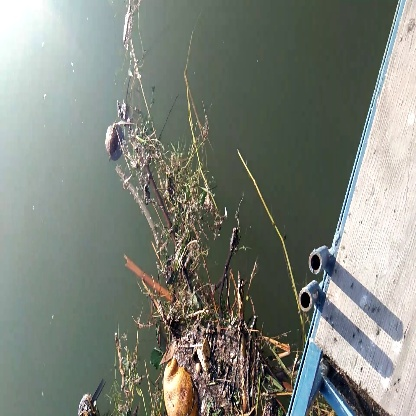branch: (116, 150, 177, 253)
